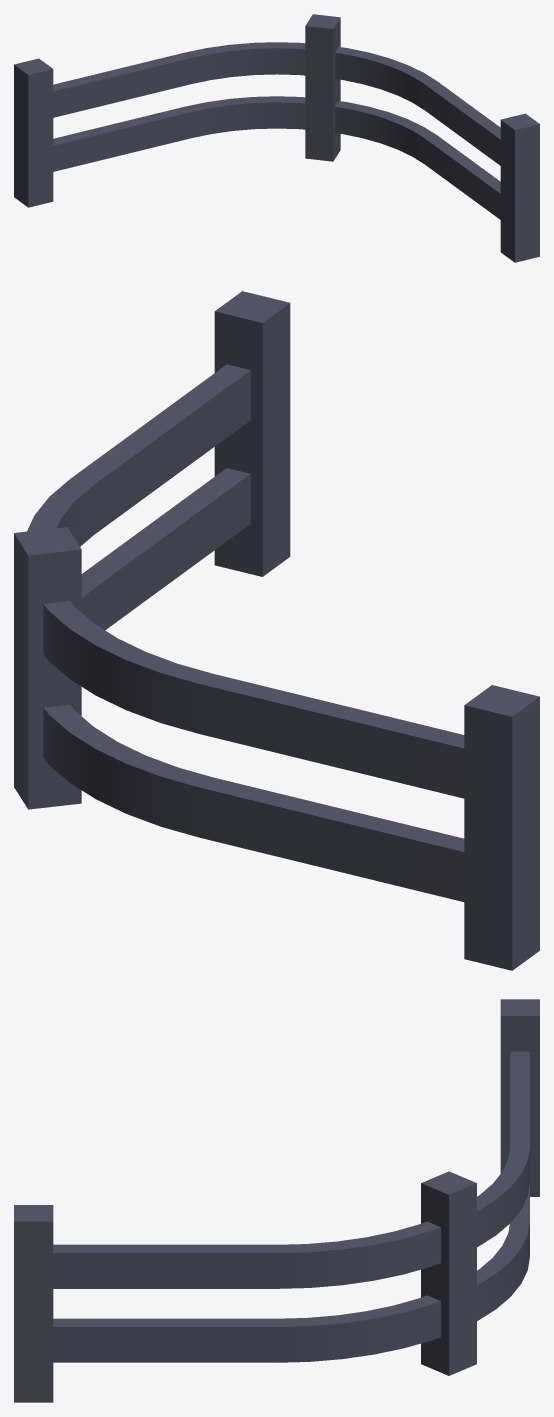
Rendered from fence-curved.glb.
The picture shows the model from 3 angles, top to bottom: view 1: azimuth 30°, elevation 25°; view 2: azimuth 150°, elevation 25°; view 3: azimuth 270°, elevation 25°; orthographic projection. The views are drawn at different scales.
Parts seen in each view (by area): view 1: fence-curved; view 2: fence-curved; view 3: fence-curved.
Boxes of the visible parts, x1,y1,x2,y2 form: fence-curved: [14, 14, 539, 262]; fence-curved: [14, 291, 539, 970]; fence-curved: [14, 999, 539, 1402].
Bounding box in the file's own units: 1 × 0.38 × 1.
Materials: 1 (1 with a texture image).
